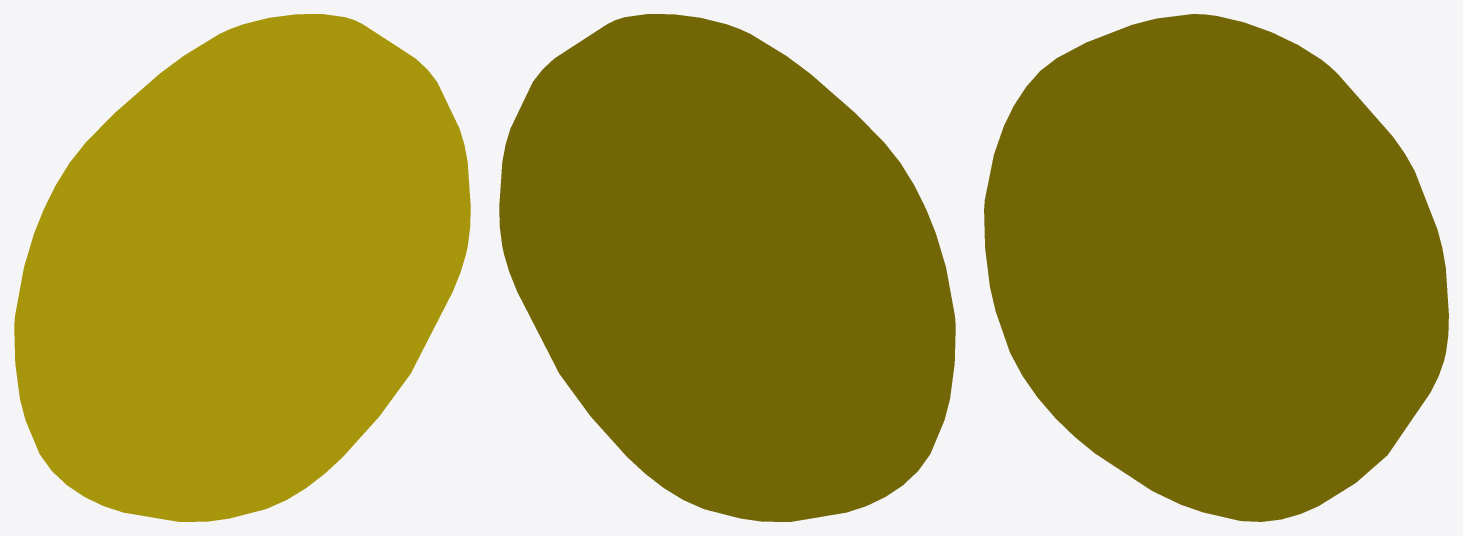
Rendered from Sun.glb.
3 views of the same model, side by side, from view 1: azimuth 30°, elevation 25°; view 2: azimuth 150°, elevation 25°; view 3: azimuth 330°, elevation 25° (orthographic).
Visible parts, largest first — view 1: Sun; view 2: Sun; view 3: Sun.
Part boxes in pixels (x1,y1,x2,y2): Sun: (14,14,470,521); Sun: (499,14,955,521); Sun: (984,14,1448,521).
Bounding box in the file's own units: 1.55 × 1.6 × 1.97e-07.
